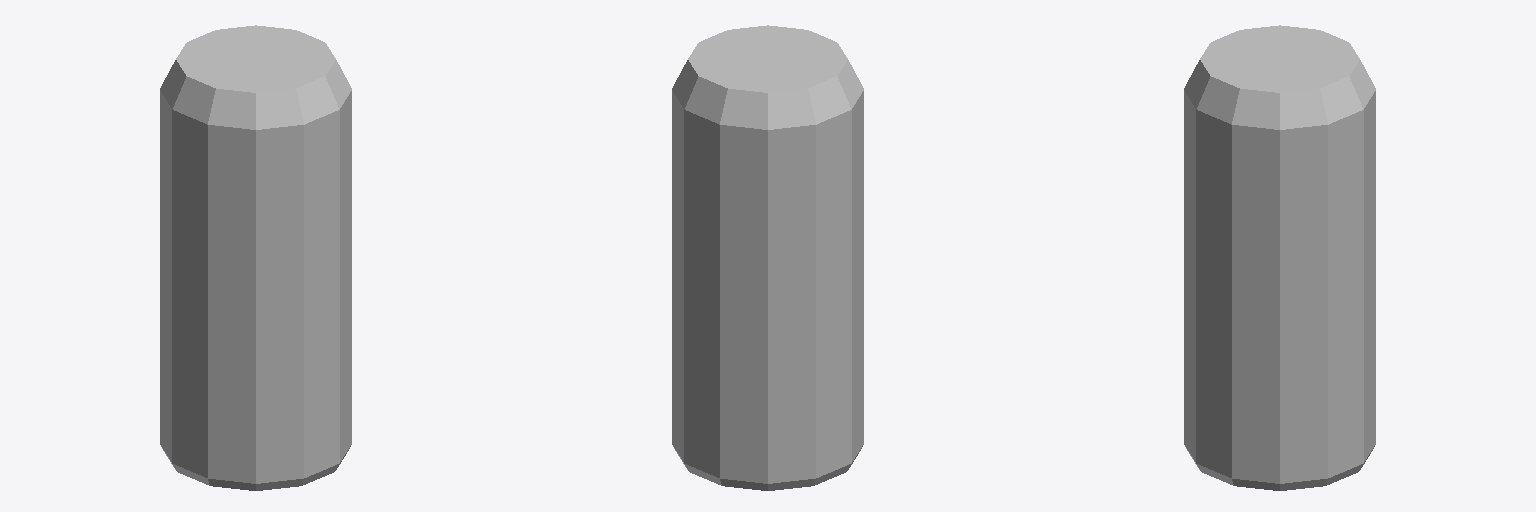
The model's file is SODA_1A.obj.
3 views of the same model, side by side, from view 1: azimuth 30°, elevation 25°; view 2: azimuth 150°, elevation 25°; view 3: azimuth 270°, elevation 25° (orthographic).
Parts seen in each view (by area): view 1: SODA_1A; view 2: SODA_1A; view 3: SODA_1A.
Part boxes in pixels (x1,y1,x2,y2): SODA_1A: (160,25,351,490); SODA_1A: (672,25,863,490); SODA_1A: (1184,25,1375,490).
Size of the model in its own units: 2 by 4.5 by 2.